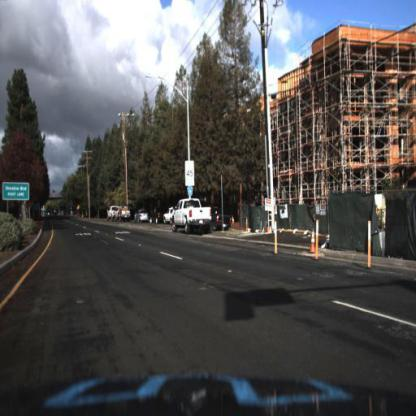car: (173, 197, 212, 233), (213, 206, 233, 232), (164, 208, 178, 224)
truck: (116, 207, 132, 223), (108, 207, 121, 222)
